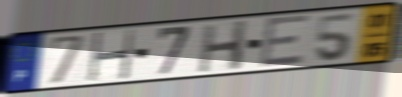5: (313, 11, 354, 63)
7: (154, 24, 193, 77), (49, 33, 87, 86)
E: (257, 13, 312, 71)
H: (196, 18, 251, 74), (86, 28, 137, 84)
